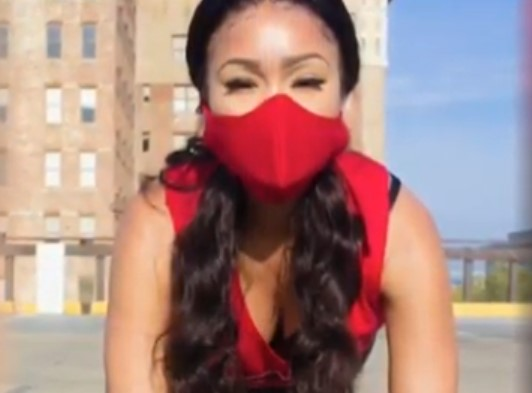face_with_mask: (193, 5, 357, 206)
